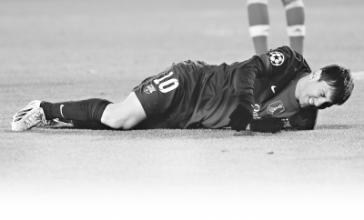fall: (11, 37, 347, 137)
